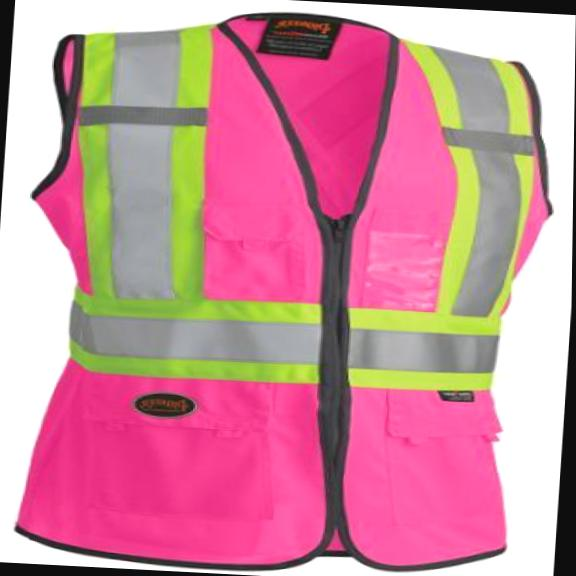safety_vest: (2, 1, 561, 576)
